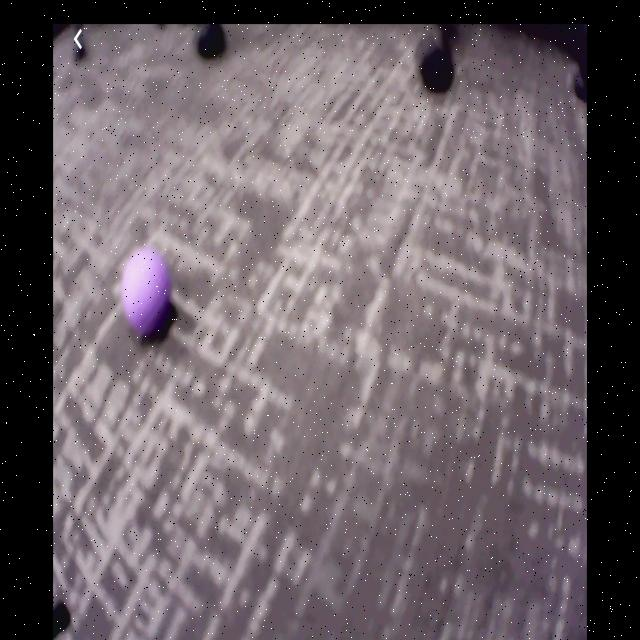ball: (123, 249, 174, 333)
